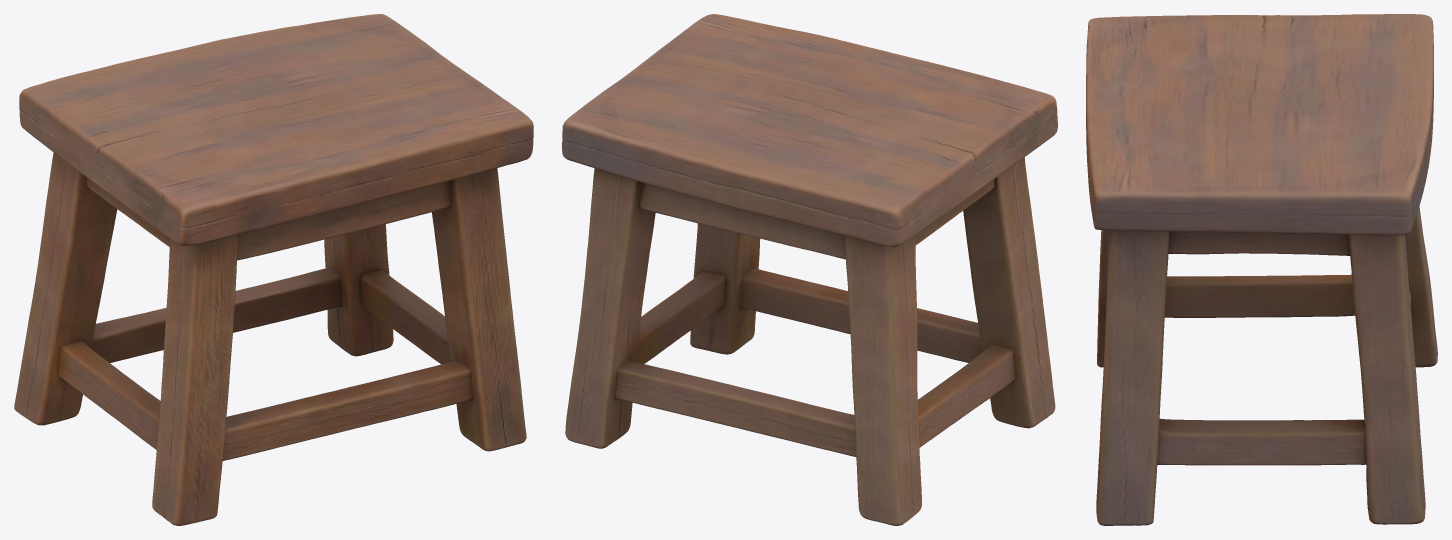
Rendered from lod_basic_shaded.fbx.
3 views of the same model, side by side, from view 1: azimuth 30°, elevation 25°; view 2: azimuth 150°, elevation 25°; view 3: azimuth 270°, elevation 25° (orthographic). The views are drawn at different scales.
Parts seen in each view (by area): view 1: model_LOD0; view 2: model_LOD0; view 3: model_LOD0.
Part boxes in pixels (x1,y1,x2,y2): model_LOD0: [14, 14, 533, 525]; model_LOD0: [562, 14, 1057, 525]; model_LOD0: [1086, 14, 1437, 525].
Size of what is drawn, in the model's own units: 190 by 164 by 154.
